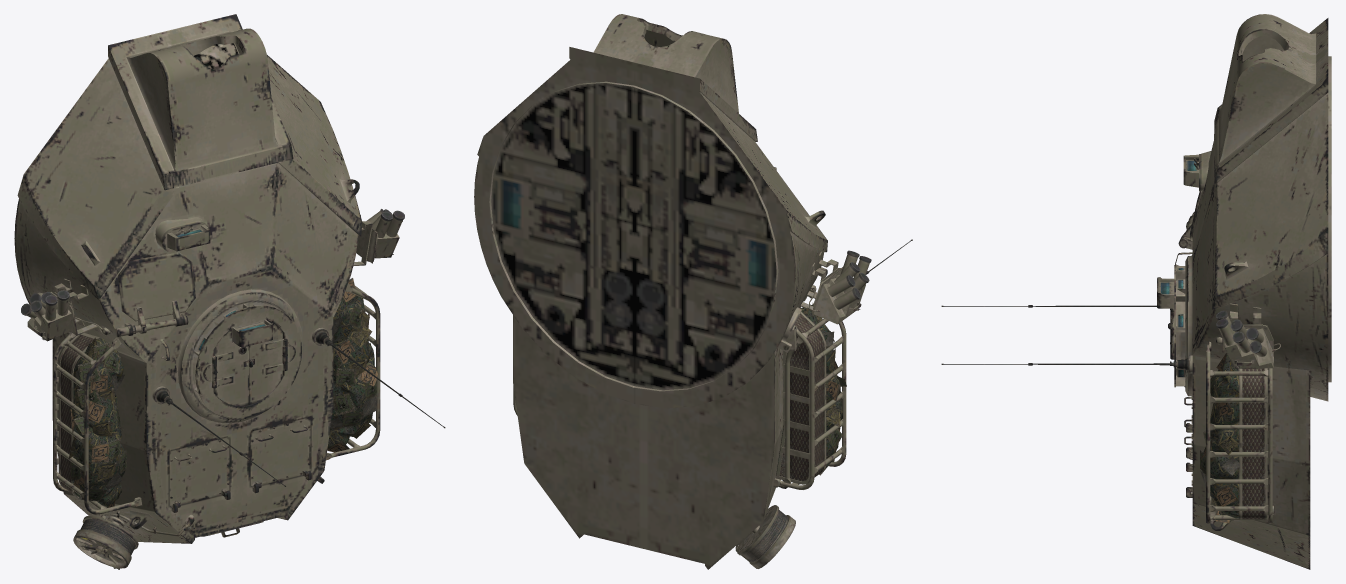
The model's file is Turret_01.glb.
3 views of the same model, side by side, from view 1: azimuth 30°, elevation 25°; view 2: azimuth 150°, elevation 25°; view 3: azimuth 270°, elevation 25° (orthographic).
Parts seen in each view (by area): view 1: set_0_group_0, set_0_group_1; view 2: set_0_group_0, set_0_group_1; view 3: set_0_group_0, set_0_group_1.
Part boxes in pixels (x1,y1,x2,y2): set_0_group_0: (14, 14, 445, 569); set_0_group_1: (68, 278, 378, 507); set_0_group_0: (474, 14, 912, 569); set_0_group_1: (776, 302, 846, 475); set_0_group_0: (941, 14, 1331, 569); set_0_group_1: (1200, 353, 1239, 523).
Bounding box in the file's own units: 2.76 × 3.58 × 2.5.
Materials: 2 (2 with a texture image).
